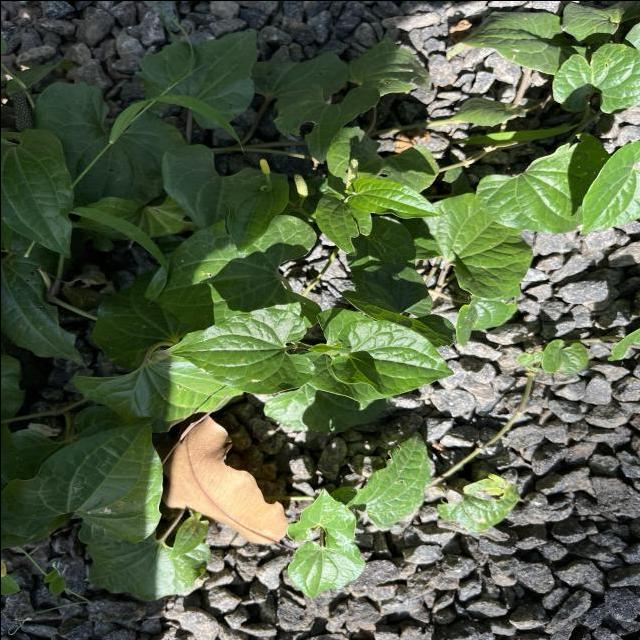Piper longum: (0, 411, 164, 548), (168, 304, 316, 394), (328, 318, 456, 396)
